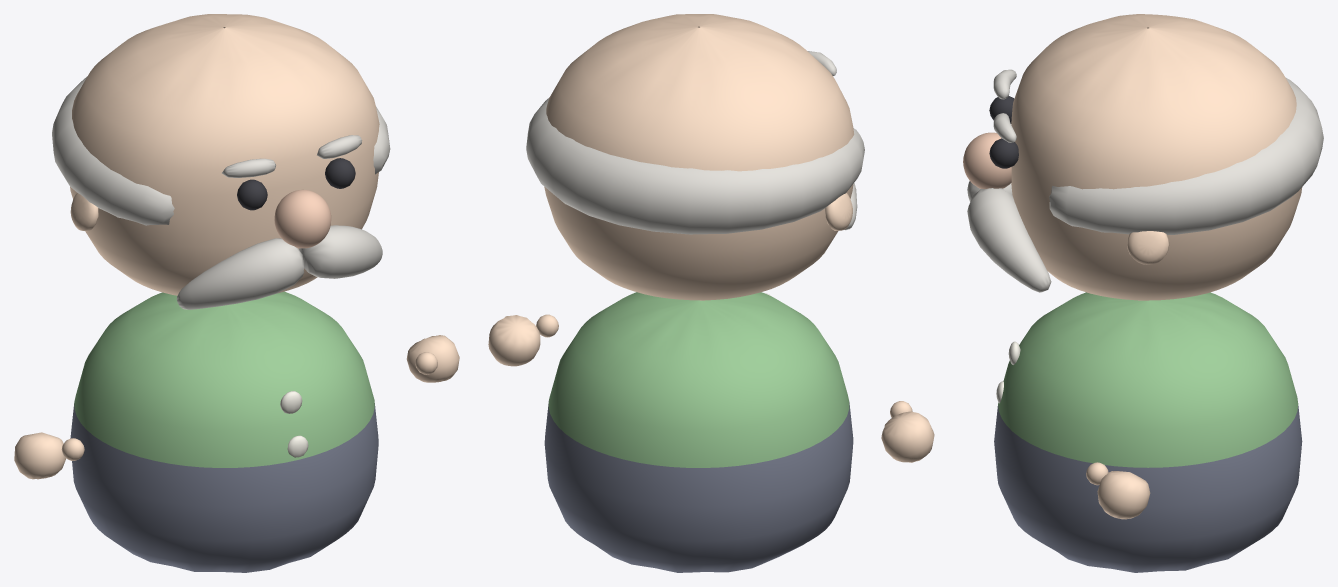
Rendered from Pedestrian_Oldman.fbx.
The picture shows the model from 3 angles, left to right: view 1: azimuth 30°, elevation 25°; view 2: azimuth 150°, elevation 25°; view 3: azimuth 270°, elevation 25°; orthographic projection.
Parts seen in each view (by area): view 1: PedBody, PedHead, PedHair, PedStacheL, PedStacheR, PedNose, PedHandL, PedHandR, PedBrowL, PedEarL, PedEyeL, PedEyeR (+1 smaller); view 2: PedBody, PedHead, PedHair, PedHandR, PedHandL, PedEarL; view 3: PedBody, PedHead, PedHair, PedStacheR, PedHandR, PedNose, PedEarR, PedEyeR, PedBrowL, PedBrowR.
Part boxes in pixels (x1,y1,x2,y2): PedBody: [70, 291, 378, 572]; PedHead: [70, 14, 379, 295]; PedHair: [52, 76, 390, 225]; PedStacheL: [176, 238, 304, 309]; PedStacheR: [299, 225, 382, 278]; PedNose: [274, 189, 331, 248]; PedHandL: [14, 432, 65, 479]; PedHandR: [406, 335, 459, 382]; PedBrowL: [222, 158, 275, 177]; PedEarL: [70, 193, 98, 231]; PedEyeL: [237, 179, 267, 210]; PedEyeR: [325, 158, 355, 188]; PedBody: [544, 292, 853, 572]; PedHead: [544, 14, 854, 300]; PedHair: [526, 97, 864, 234]; PedHandR: [488, 315, 540, 366]; PedHandL: [881, 411, 934, 462]; PedEarL: [825, 193, 852, 230]; PedBody: [994, 292, 1302, 572]; PedHead: [1011, 14, 1302, 300]; PedHair: [1049, 77, 1323, 234]; PedStacheR: [967, 188, 1051, 292]; PedHandR: [1097, 471, 1150, 519]; PedNose: [963, 132, 1011, 189]; PedEarR: [1127, 231, 1169, 264]; PedEyeR: [989, 138, 1018, 168]; PedBrowL: [993, 69, 1016, 99]; PedBrowR: [993, 113, 1016, 142].
Bounding box in the file's own units: 115 × 128 × 81.82.
